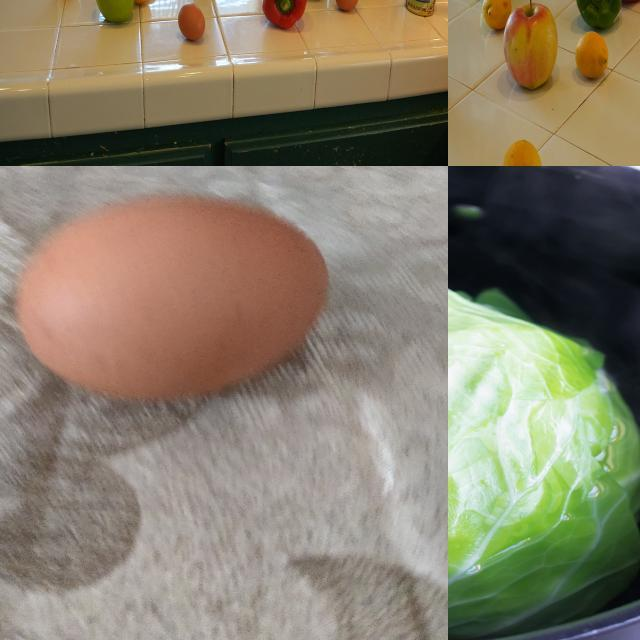bell_pepper: (260, 1, 304, 34), (576, 1, 622, 24)
cabbage: (449, 271, 640, 640)
egg: (2, 195, 338, 407), (179, 5, 212, 47), (338, 1, 360, 16)
